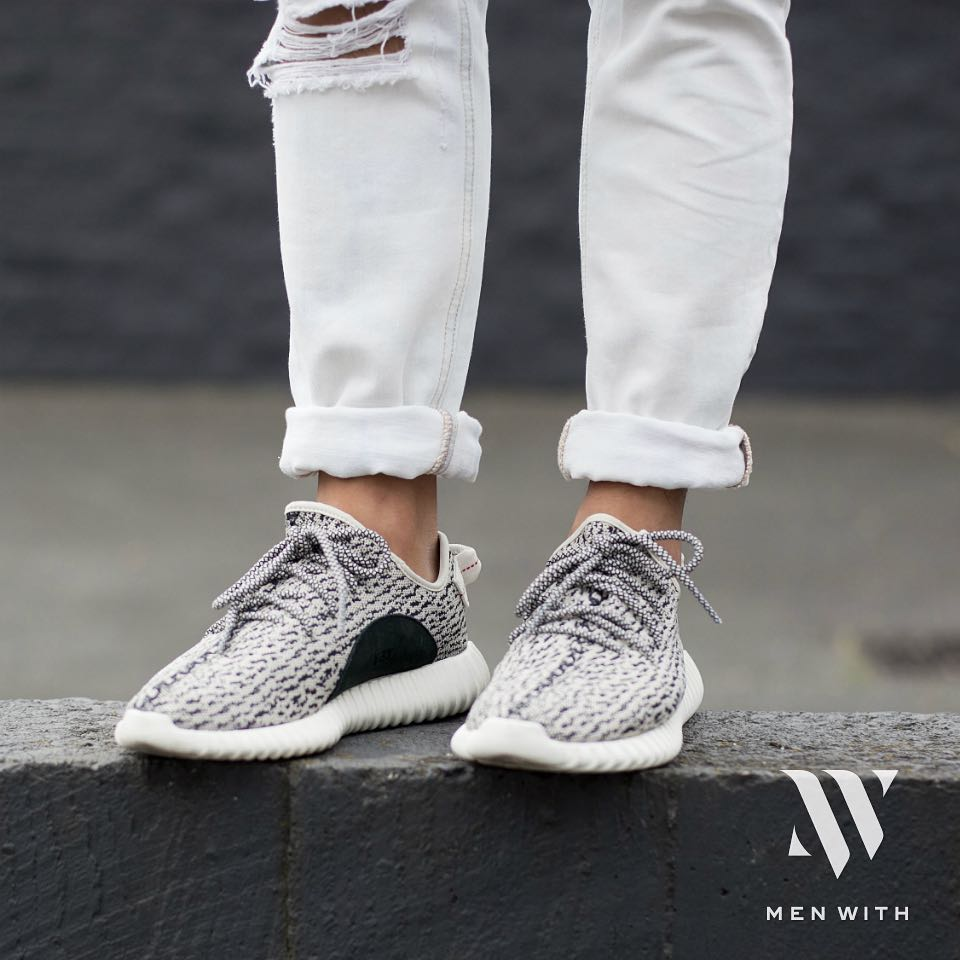sneaker: (98, 438, 513, 792), (426, 447, 750, 795)
